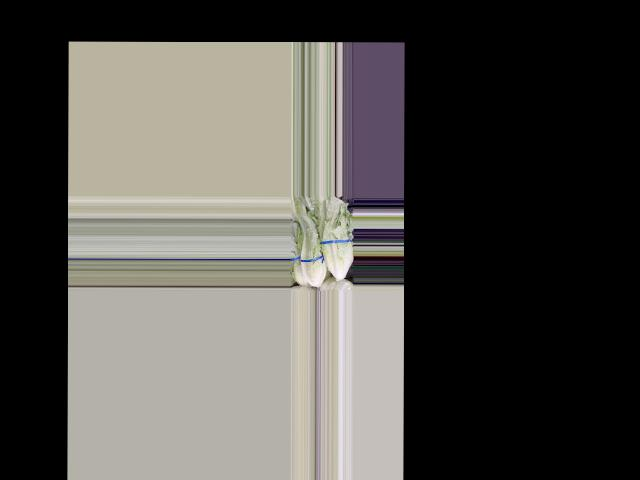lettuce: (294, 212, 326, 288)
